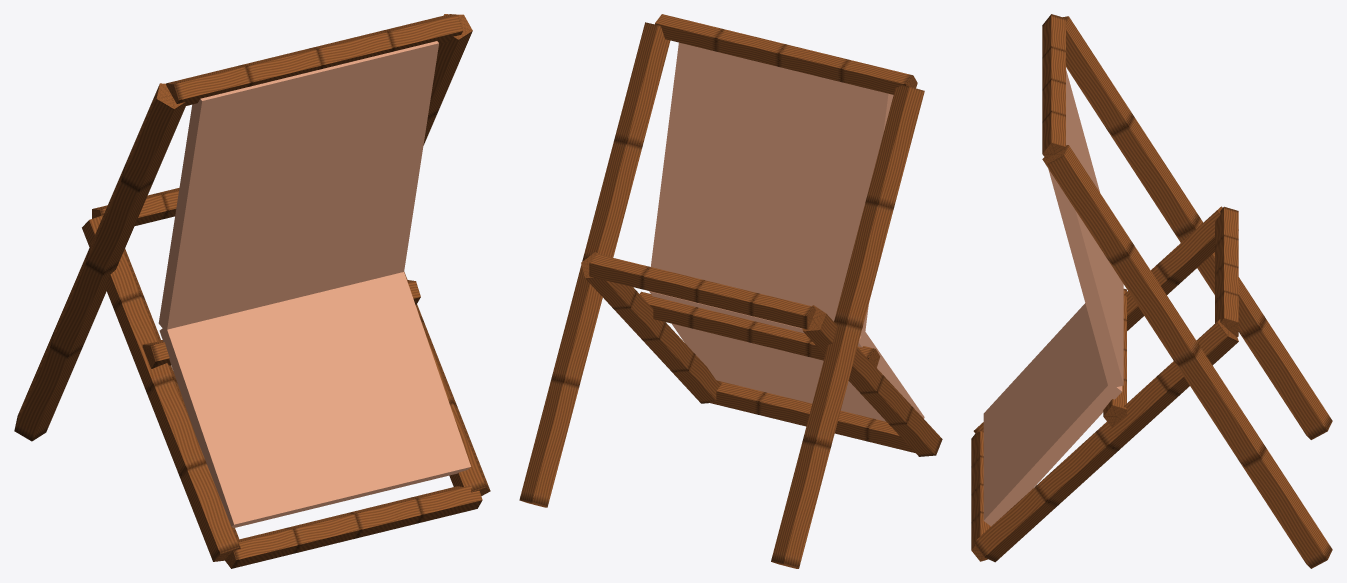
File: allotments-and-community-garden-deckchair-d6121b9b__35151.glb
3 renders of one model, left to right at view 1: azimuth 30°, elevation 25°; view 2: azimuth 150°, elevation 25°; view 3: azimuth 270°, elevation 25°, orthographic. The views are drawn at different scales.
Parts seen in each view (by area): view 1: deckchair-terracotta, deckchair-timber; view 2: deckchair-timber, deckchair-terracotta; view 3: deckchair-timber, deckchair-terracotta.
Boxes of the visible parts, x1=… form: deckchair-terracotta: x1=158, y1=41, x2=470, y2=527; deckchair-timber: x1=14, y1=14, x2=490, y2=568; deckchair-timber: x1=519, y1=14, x2=942, y2=568; deckchair-terracotta: x1=649, y1=42, x2=924, y2=421; deckchair-timber: x1=971, y1=14, x2=1332, y2=568; deckchair-terracotta: x1=983, y1=69, x2=1123, y2=526.
Bounding box in the file's own units: 0.6579 × 0.9295 × 0.7122.
2 materials, 1 textured.
